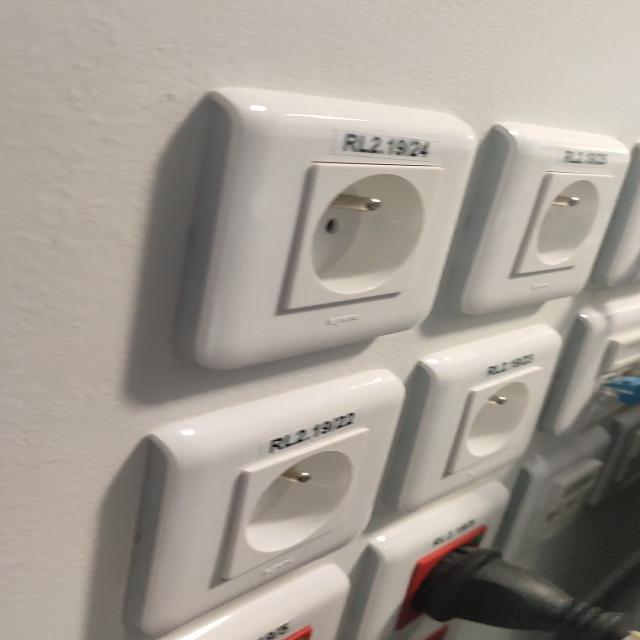house plug: (280, 163, 442, 310), (226, 429, 366, 581), (514, 171, 613, 276), (449, 368, 543, 476)
